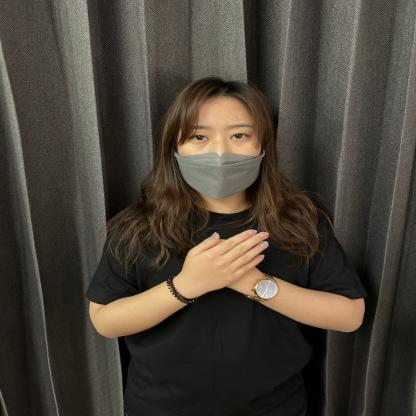Grieve: (122, 216, 329, 306)
